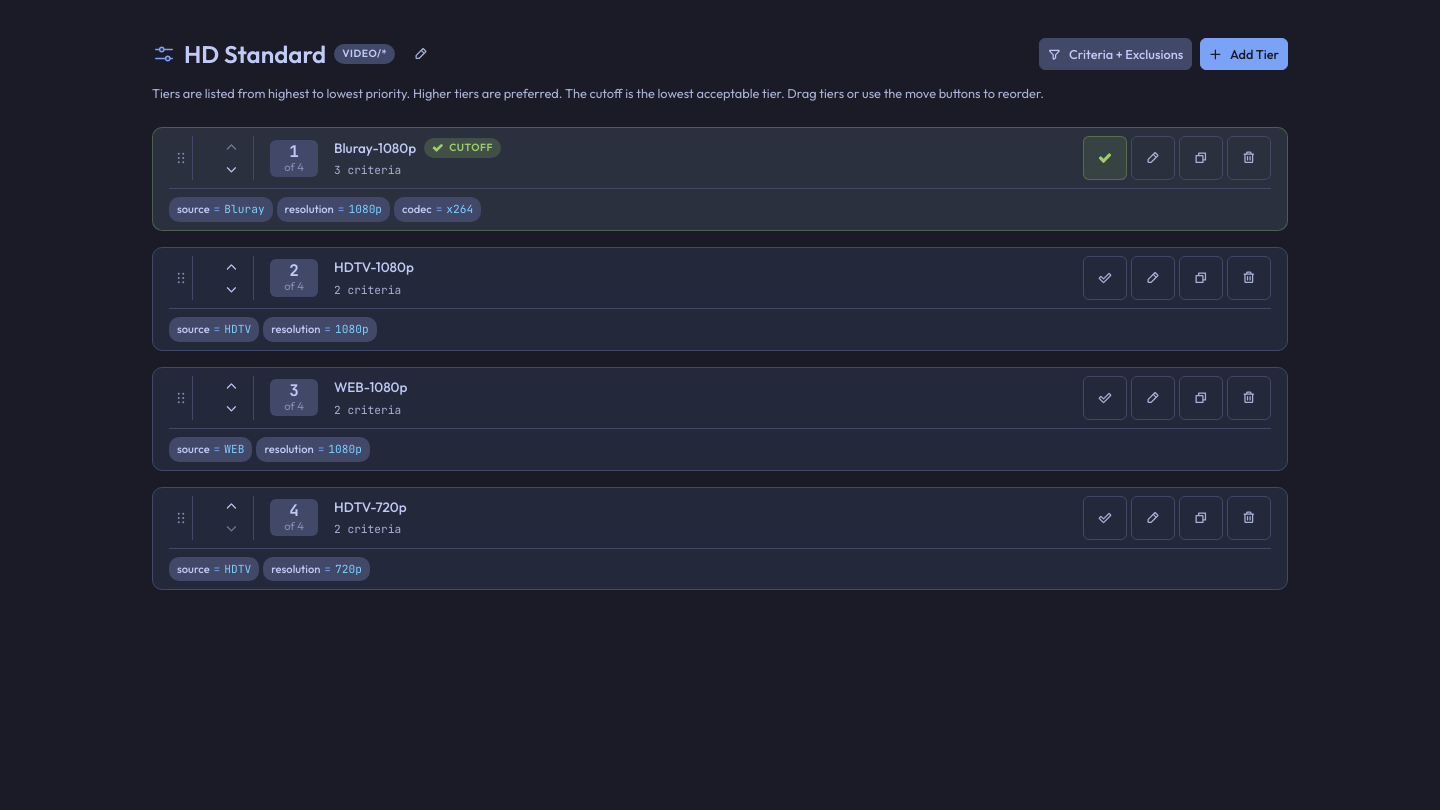
TierListDetailPage delete confirmation › shows toast notification after delete completes
Expected: the list item that starts with "Bluray-1080p" is shown, [152,127,1288,231]
Step 1. Click the button named "Delete Bluray-1080p" → (1249, 158), box [1227,136,1271,180]
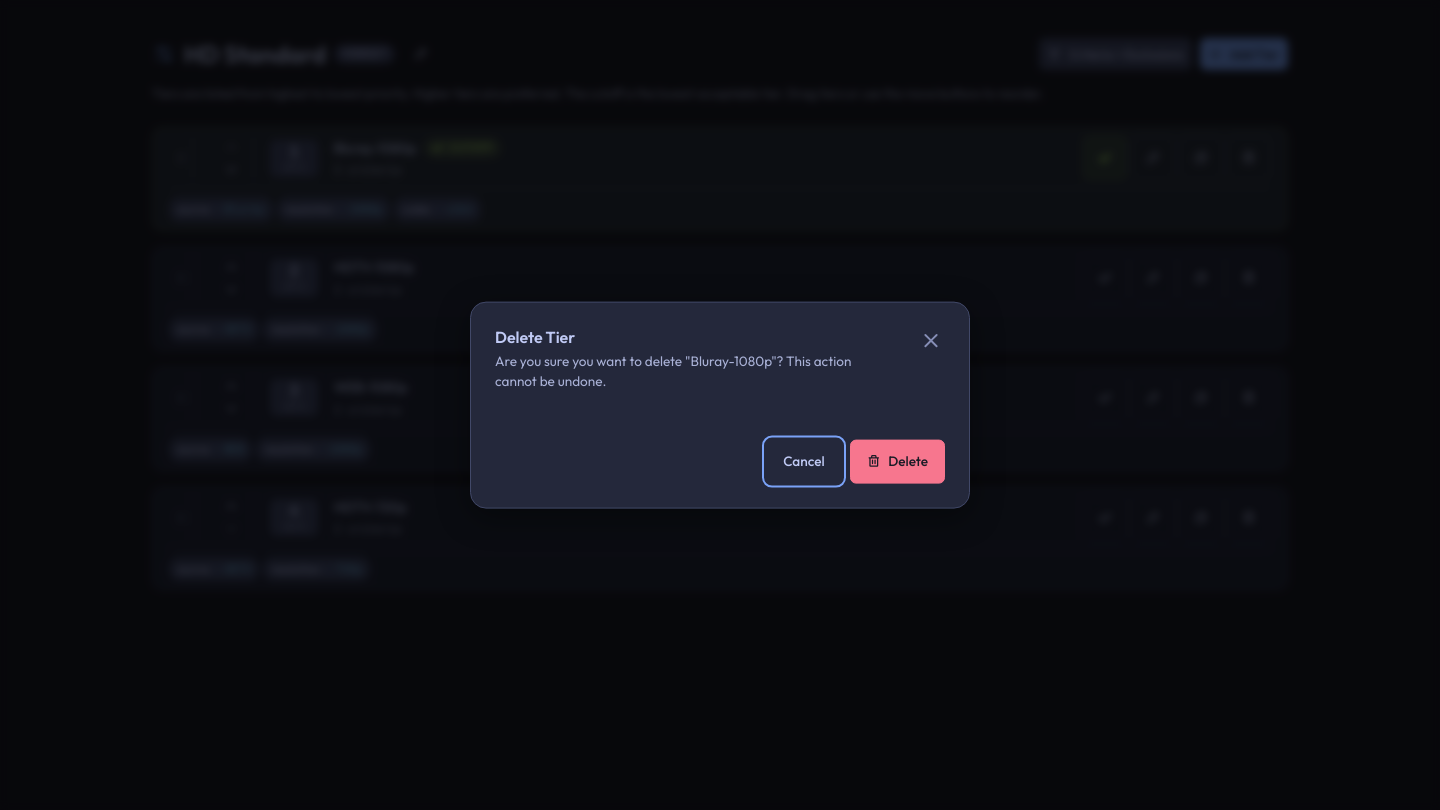
Expected: the heading "Delete Tier" is shown, [495,327,575,347]
Step 2. Click the button "Delete" → (897, 461), box [850,439,945,483]
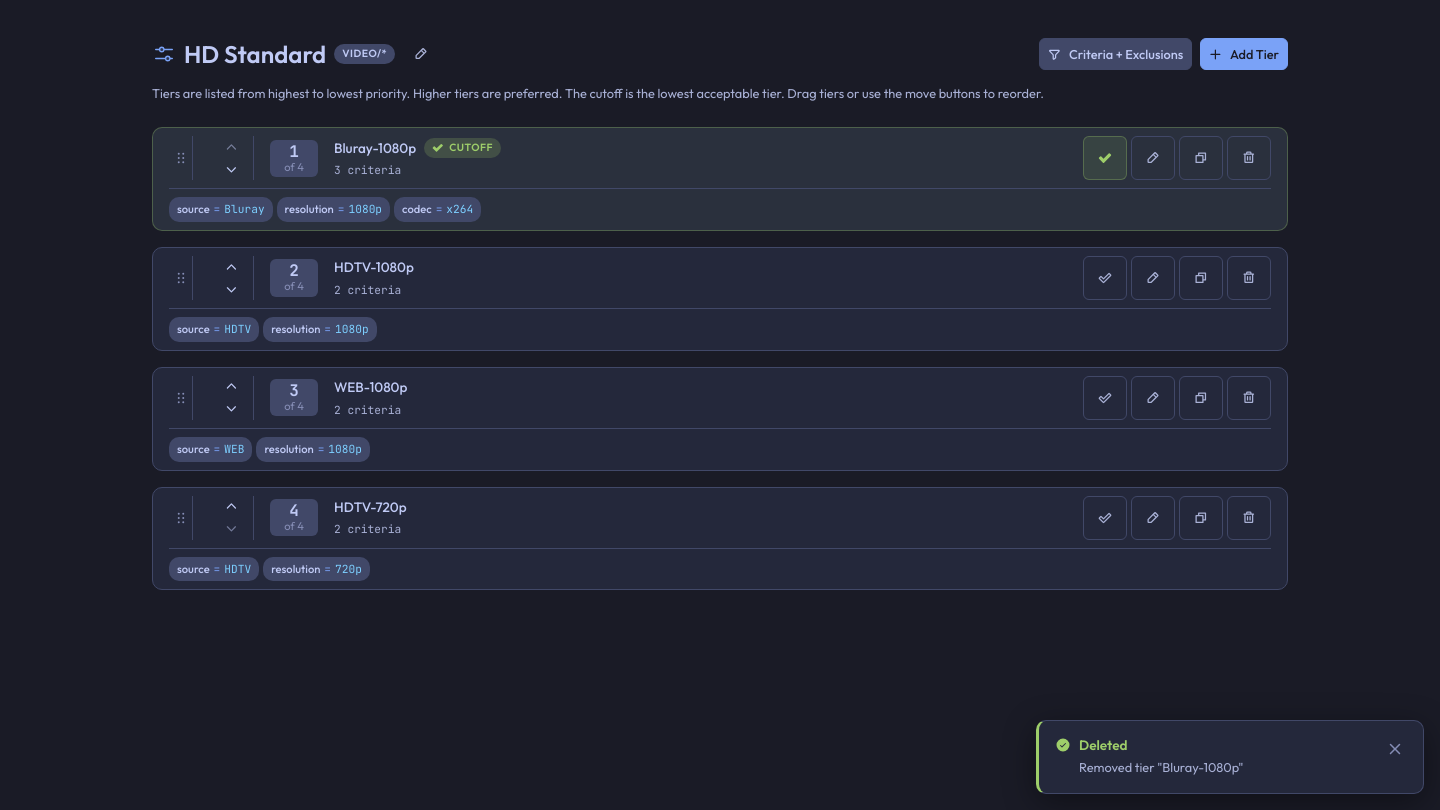
Expected: the text "Deleted" is shown, [1079,736,1128,754]
Expected: the text "Removed tier \"Bluray-1080p\"" is shown, [1079,758,1244,777]
